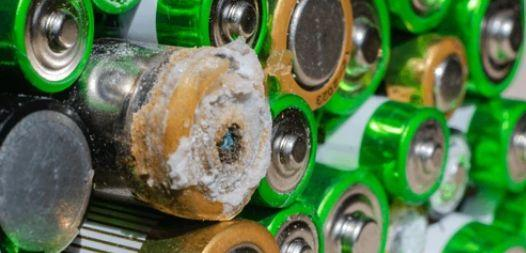battery: (77, 43, 268, 218), (0, 96, 98, 252), (255, 158, 390, 252), (359, 102, 449, 205), (315, 0, 391, 118), (75, 40, 165, 138), (8, 2, 94, 94), (254, 92, 319, 208), (382, 31, 468, 118), (453, 0, 526, 98), (153, 1, 268, 58), (468, 98, 526, 193), (442, 187, 526, 251), (87, 2, 147, 45), (385, 1, 457, 35)
